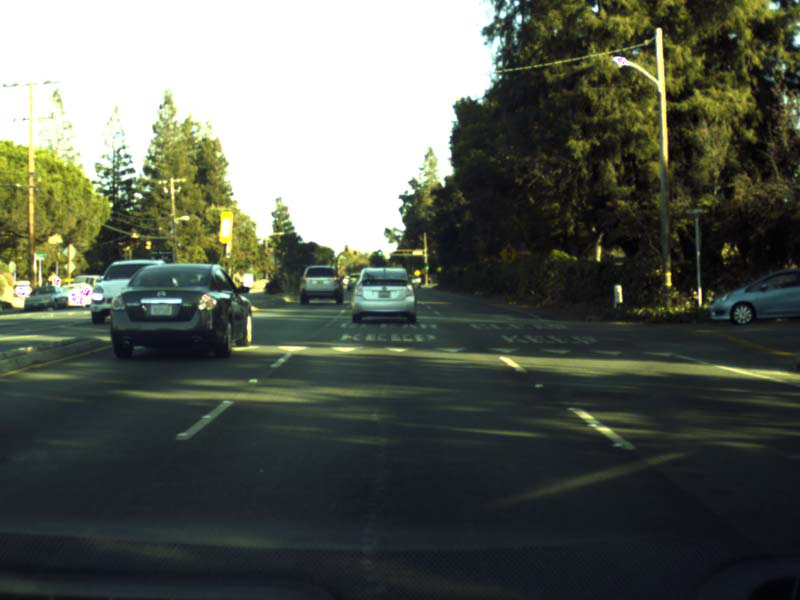Green: (424, 264, 429, 270), (377, 251, 381, 256)
